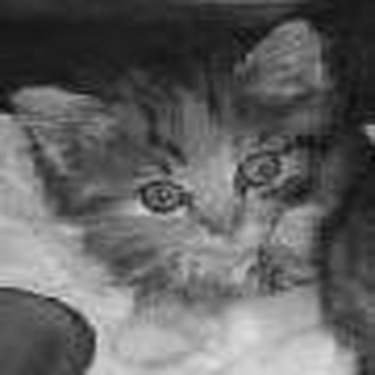cat: (44, 16, 357, 367)
